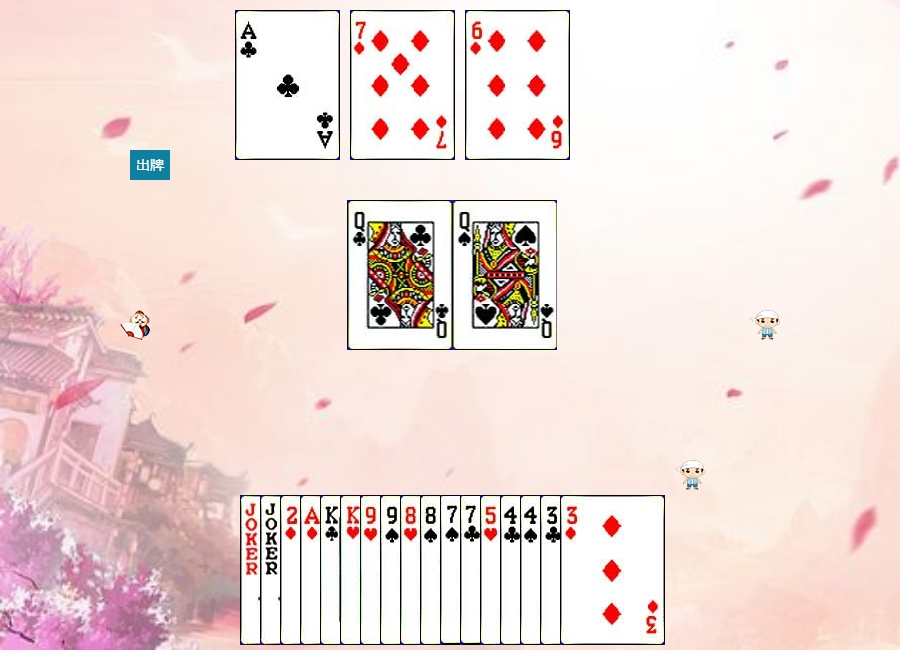12~2: (348, 200, 453, 350)
12~4: (453, 200, 558, 350)
13~2: (320, 495, 425, 645)
13~3: (340, 495, 445, 645)
14~1: (300, 495, 405, 645)
14~2: (235, 10, 340, 160)
15~1: (280, 495, 385, 645)
17~3: (260, 495, 365, 645)
18~4: (240, 495, 345, 645)
3~1: (560, 495, 665, 645)
3~2: (540, 495, 645, 645)
4~2: (500, 495, 605, 645)
4~4: (520, 495, 625, 645)
5~3: (480, 495, 585, 645)
6~1: (465, 10, 570, 160)
7~1: (350, 10, 455, 160)
7~2: (460, 495, 565, 645)
7~4: (440, 495, 545, 645)
8~3: (400, 495, 505, 645)
8~4: (420, 495, 525, 645)
9~3: (360, 495, 465, 645)
9~4: (380, 495, 485, 645)
